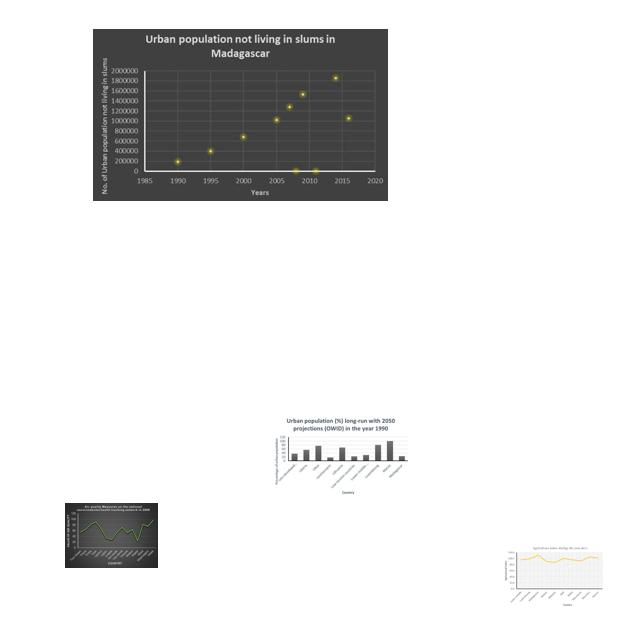Graph: (93, 29, 388, 201), (273, 417, 411, 496), (502, 545, 604, 606), (65, 503, 158, 568)
